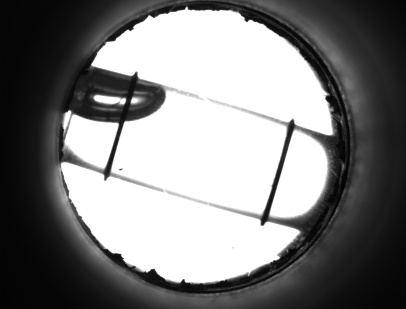line: (261, 143, 292, 206), (103, 131, 125, 163)
